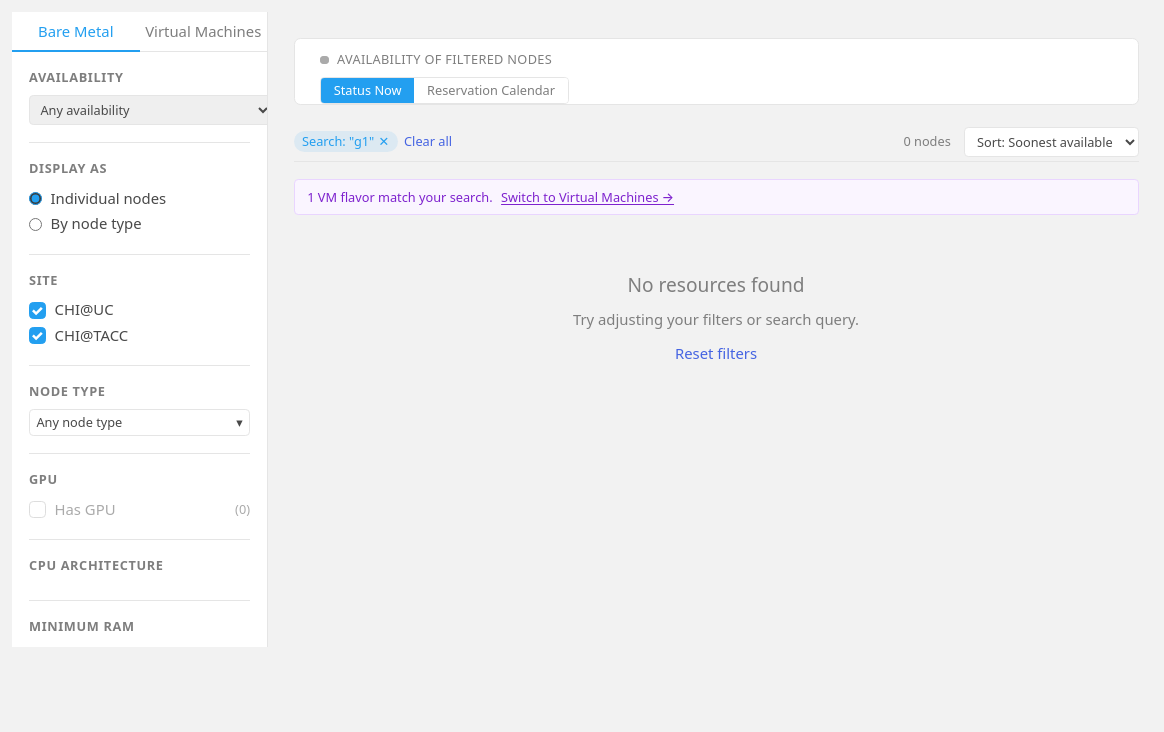
DiscoveryPage › offers the switch when the current VM site has no matching flavors
The image size is (1164, 732).
Click the button "Virtual Machines". click: point(203, 32)
box: [140, 12, 267, 52]
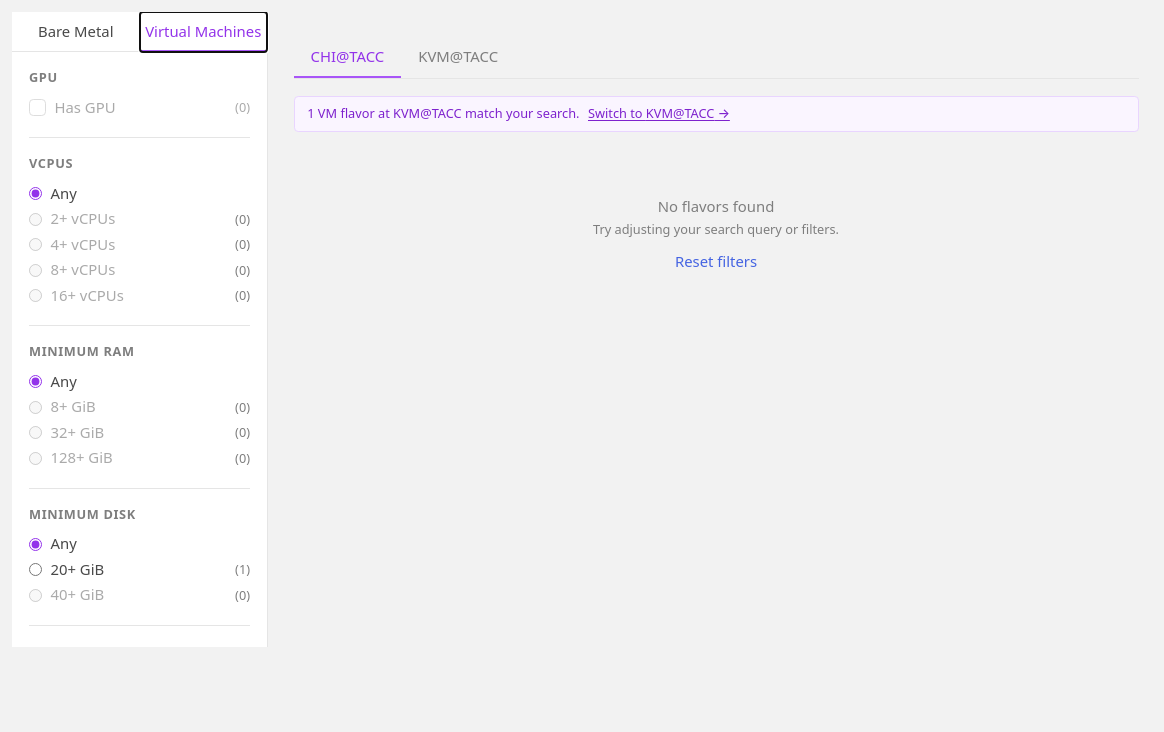
Expected: the tab "CHI@TACC" is shown, [294, 38, 401, 78]
Now the text "No flavors found" is shown, box [658, 196, 774, 217]
Now the button "Switch to KVM@TACC →" is shown, box [588, 105, 730, 122]
